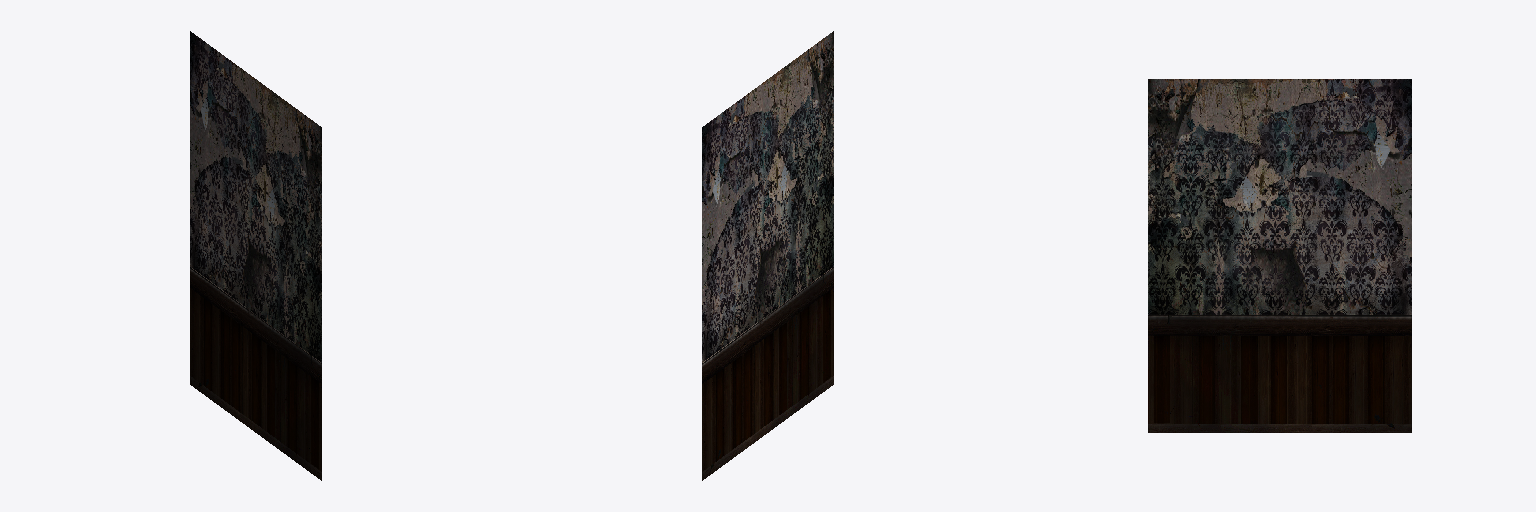
3 renders of one model, left to right at view 1: azimuth 30°, elevation 25°; view 2: azimuth 150°, elevation 25°; view 3: azimuth 270°, elevation 25°, orthographic.
Visible parts, largest first — view 1: Cube; view 2: Cube; view 3: Cube.
Part boxes in pixels (x1,y1,x2,y2): Cube: (190, 31, 321, 480); Cube: (702, 31, 833, 480); Cube: (1148, 79, 1411, 432).
Bounding box in the file's own units: 0 × 5.92 × 4.
Materials: 1 (1 with a texture image).